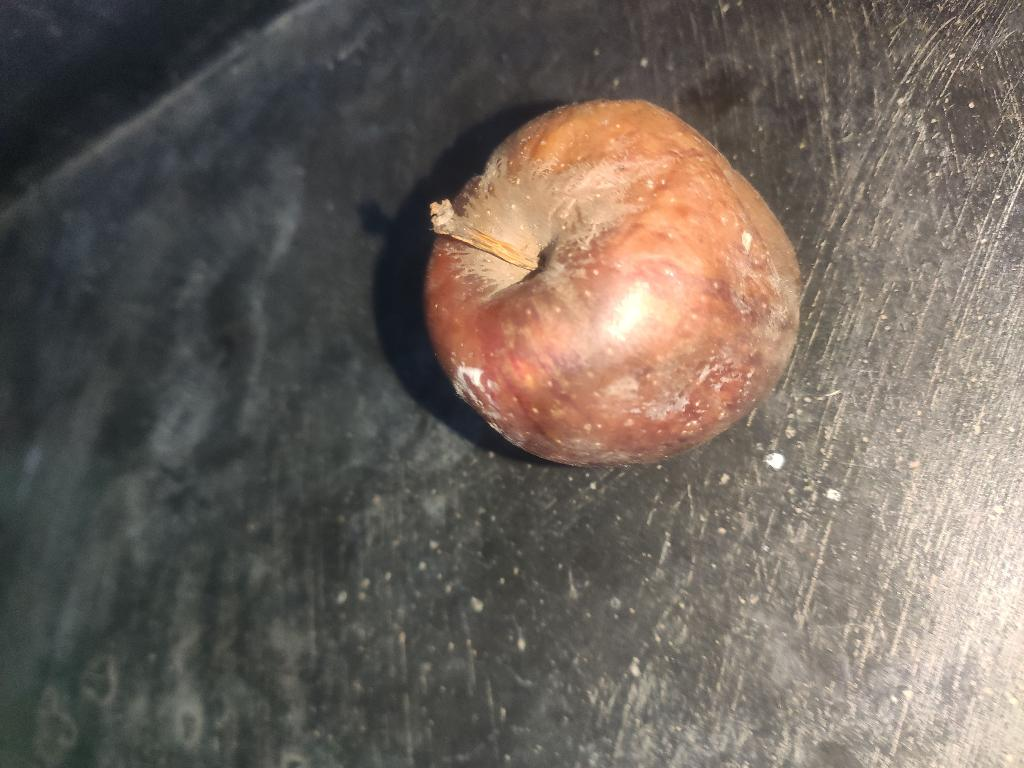apple: (424, 100, 799, 465)
rot_mold_decay: (426, 101, 800, 465)
